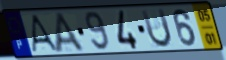4: (116, 8, 140, 51)
6: (172, 7, 198, 48)
9: (84, 10, 112, 52)
A: (54, 11, 88, 54), (30, 13, 61, 54)
U: (139, 7, 174, 50)
